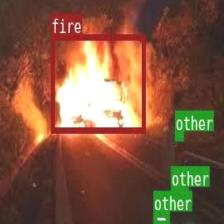fire: (50, 33, 145, 132)
